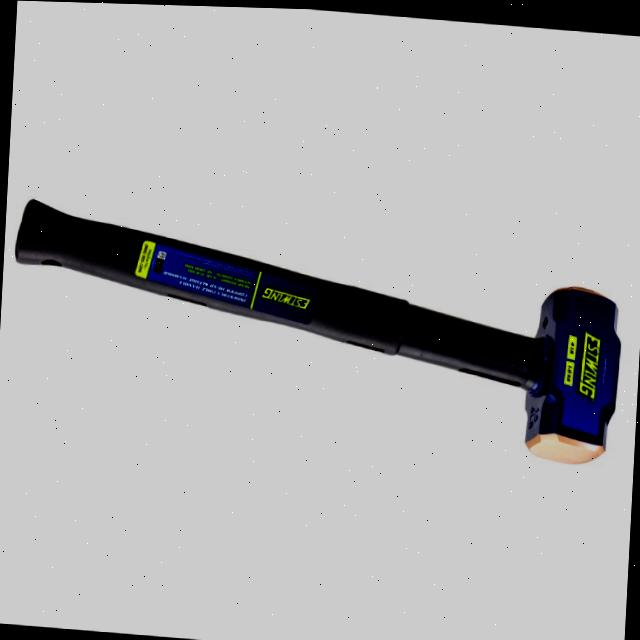hammer: (0, 189, 633, 474)
